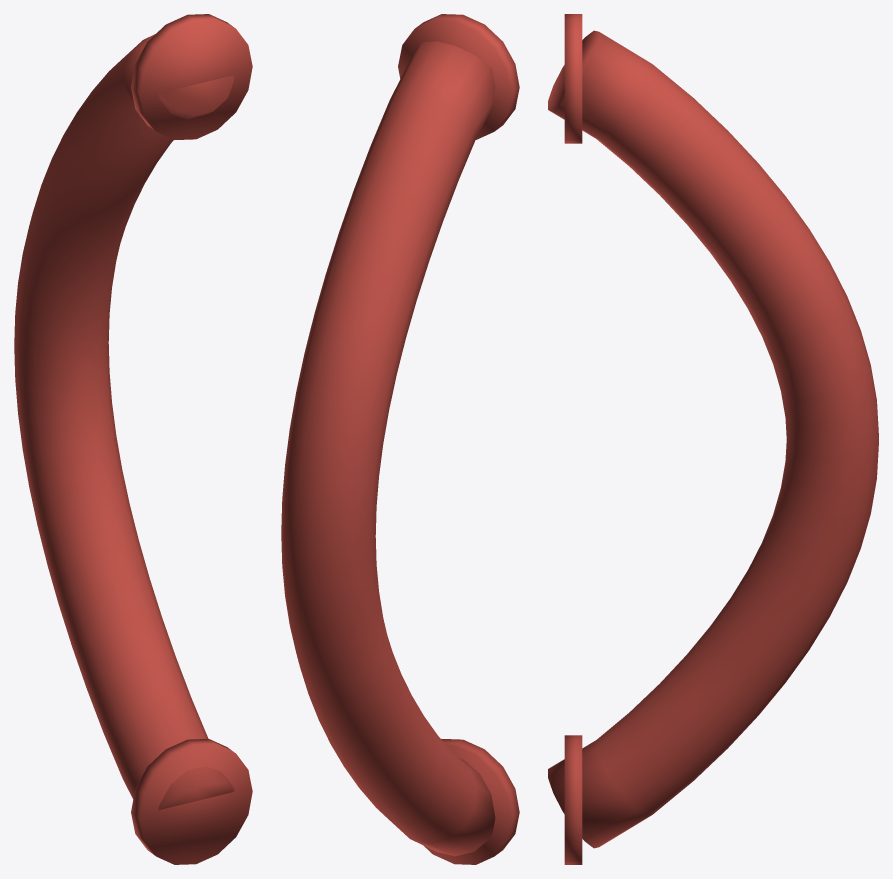
Rendered from frost_mug_handle.glb.
3 views of the same model, side by side, from view 1: azimuth 30°, elevation 25°; view 2: azimuth 150°, elevation 25°; view 3: azimuth 270°, elevation 25° (orthographic).
Parts seen in each view (by area): view 1: frost_mug_handle; view 2: frost_mug_handle; view 3: frost_mug_handle.
Boxes of the visible parts, x1=… form: frost_mug_handle: x1=14, y1=14, x2=252, y2=864; frost_mug_handle: x1=281, y1=14, x2=519, y2=864; frost_mug_handle: x1=548, y1=14, x2=878, y2=864.
Size of the model in its own units: 1.93 by 13.8 by 4.93.
